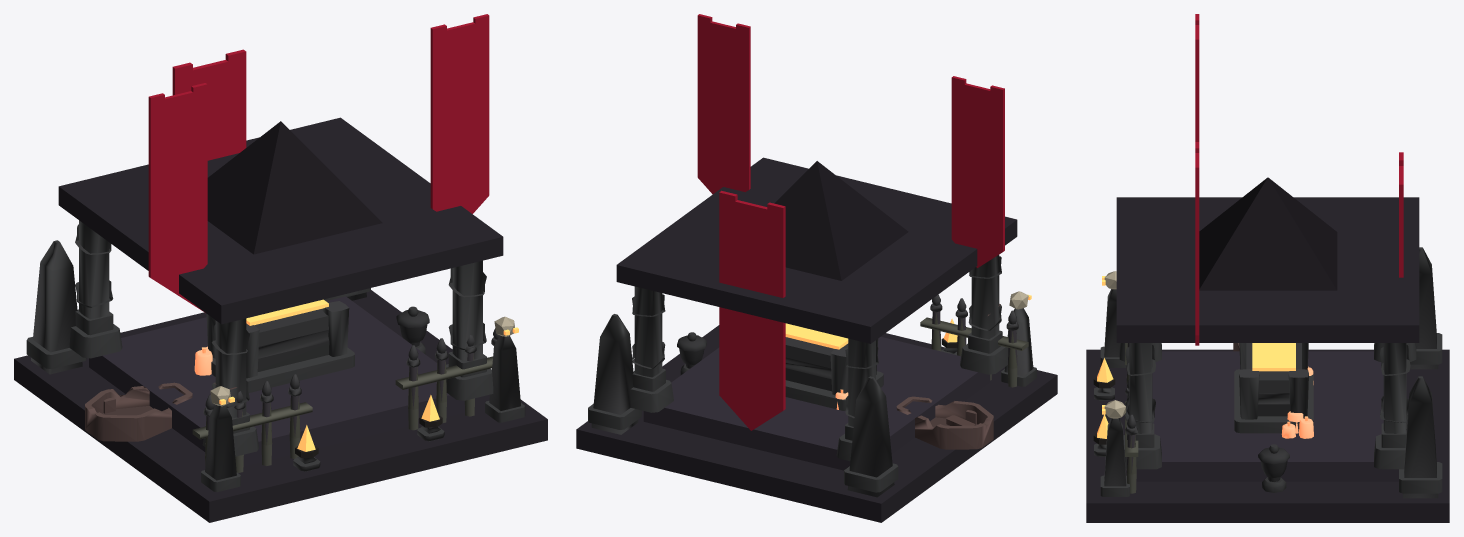
The model's file is altar_l3.glb.
3 views of the same model, side by side, from view 1: azimuth 30°, elevation 25°; view 2: azimuth 150°, elevation 25°; view 3: azimuth 270°, elevation 25° (orthographic). The views are drawn at different scales.
Parts seen in each view (by area): view 1: altar_l3; view 2: altar_l3; view 3: altar_l3.
Part boxes in pixels (x1,y1,x2,y2): altar_l3: (14,14,547,522); altar_l3: (576,14,1057,522); altar_l3: (1086,14,1449,522).
Size of the model in its own units: 6.04 by 6.15 by 5.7.
